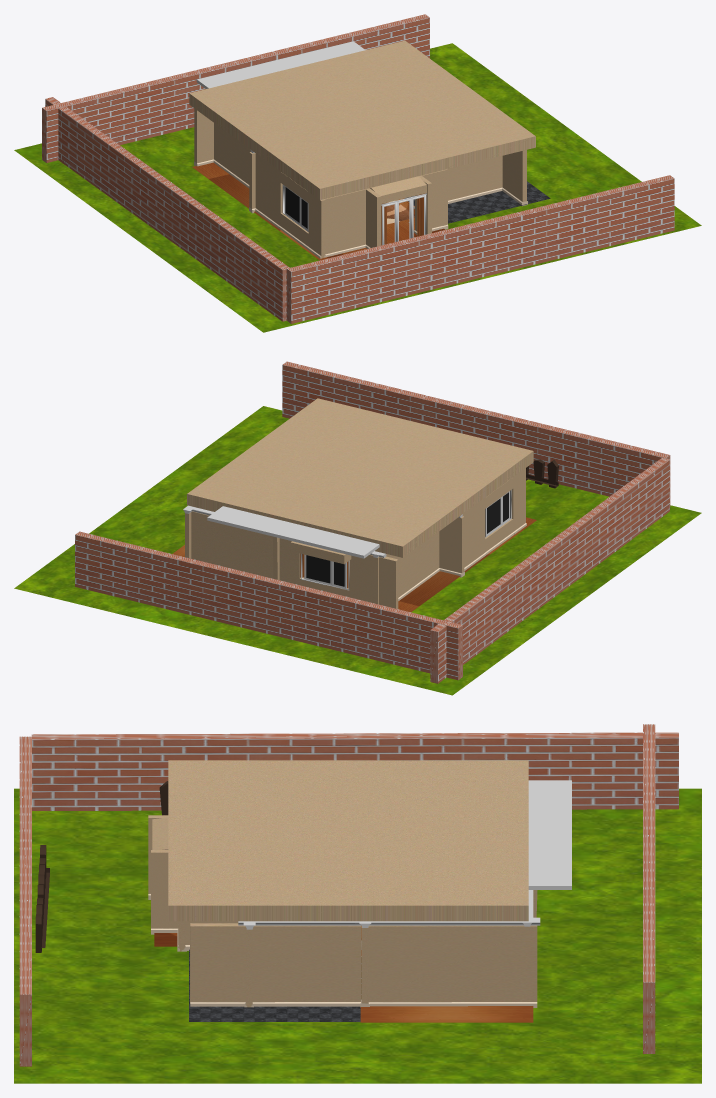
Rendered from room1.FBX.
The picture shows the model from 3 angles, top to bottom: view 1: azimuth 30°, elevation 25°; view 2: azimuth 150°, elevation 25°; view 3: azimuth 270°, elevation 25°; orthographic projection. The views are drawn at different scales.
Visible parts, largest first — view 1: Box1250, Plane096, Box1276, Box1278, Box1277, Box1196, Box1272, Box1201, Plane047, Plane049, Box1213, Box1217 (+8 smaller); view 2: Box1250, Plane096, Box1277, Box1276, Box1278, Box1211, Box1272, Box1212, Box1217, Box1218, Box1213, Plane047 (+5 smaller); view 3: Plane096, Box1250, Box1278, Box1202, Box1230, Box1272, Box1276, Box1277, Plane048, Plane049, Box1215, Box1261 (+2 smaller).
Boxes of the visible parts, left/top/right/bottom form: Box1250: left=189, top=40, right=535, bottom=199; Plane096: left=14, top=43, right=701, bottom=332; Box1276: left=286, top=175, right=674, bottom=323; Box1278: left=45, top=97, right=289, bottom=321; Box1277: left=42, top=14, right=429, bottom=162; Box1196: left=324, top=188, right=369, bottom=257; Box1272: left=196, top=41, right=365, bottom=88; Box1201: left=447, top=155, right=502, bottom=203; Plane047: left=192, top=162, right=445, bottom=260; Plane049: left=404, top=181, right=550, bottom=223; Box1213: left=255, top=153, right=282, bottom=228; Box1217: left=213, top=123, right=250, bottom=188; Box1250: left=187, top=398, right=533, bottom=557; Plane096: left=14, top=406, right=701, bottom=695; Box1277: left=75, top=531, right=462, bottom=680; Box1276: left=282, top=361, right=670, bottom=506; Box1278: left=430, top=457, right=669, bottom=683; Box1211: left=191, top=511, right=300, bottom=584; Box1272: left=207, top=506, right=379, bottom=558; Box1212: left=349, top=554, right=398, bottom=608; Box1217: left=373, top=531, right=439, bottom=604; Box1218: left=439, top=516, right=464, bottom=577; Box1213: left=462, top=498, right=486, bottom=570; Plane047: left=398, top=517, right=536, bottom=612; Plane096: left=14, top=788, right=701, bottom=1083; Box1250: left=168, top=760, right=528, bottom=921; Box1278: left=31, top=732, right=678, bottom=810; Box1202: left=368, top=925, right=537, bottom=1007; Box1230: left=190, top=923, right=360, bottom=1006; Box1272: left=528, top=780, right=571, bottom=889; Box1276: left=19, top=736, right=31, bottom=1066; Box1277: left=643, top=724, right=655, bottom=1053; Plane048: left=360, top=1006, right=533, bottom=1022; Plane049: left=189, top=949, right=360, bottom=1021; Box1215: left=151, top=850, right=178, bottom=934; Box1261: left=238, top=917, right=540, bottom=925.
Size of the model in its own units: 8074 by 1431 by 7954.
